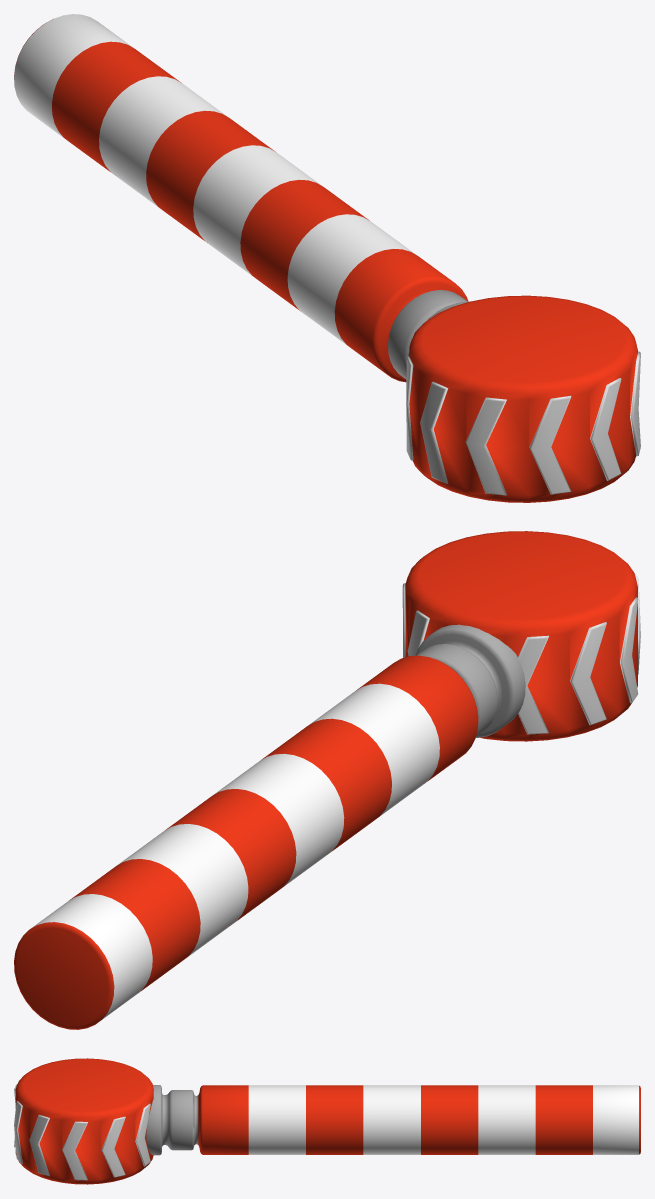
File: arrowtrapbig.fbx
3 views of the same model, one above another, from view 1: azimuth 30°, elevation 25°; view 2: azimuth 150°, elevation 25°; view 3: azimuth 270°, elevation 25° (orthographic). The views are drawn at different scales.
Parts seen in each view (by area): view 1: Cylinder.036; view 2: Cylinder.036; view 3: Cylinder.036.
Boxes of the visible parts, x1,y1,x2,y2 form: Cylinder.036: (14,14,640,502); Cylinder.036: (14,531,640,1029); Cylinder.036: (14,1058,640,1184).
Size of the model in its own units: 77.55 by 43.4 by 340.
2 materials, 1 textured.
